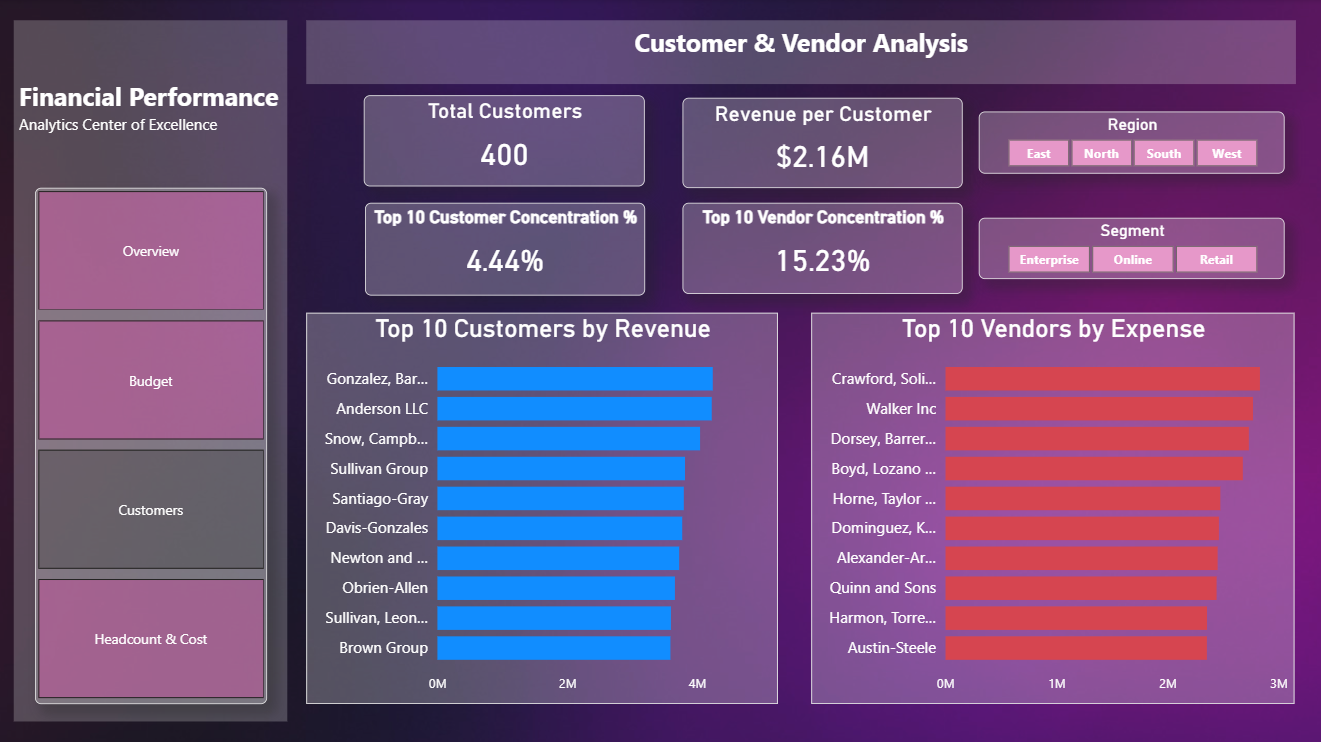

What the dashboard file says about the page in this screenshot:
{"tool":"powerbi","page":{"name":"Customers","canvas":[1280,720],"ordinal":2},"visuals":[{"type":"textbox","box":[295.6,20.5,955.5,61.5],"z":0},{"type":"textbox","box":[13.3,20.5,264.2,676.8],"z":1000},{"type":"pageNavigator","box":[33.8,182.2,224.4,498.3],"z":2000},{"type":"card","title":"Total Customers","fields":{"Values":["Customers.Total Customers"]},"box":[351.1,92.9,271.4,88.1],"z":3000},{"type":"card","title":"Revenue per Customer","fields":{"Values":["Customers.Revenue per Customer"]},"box":[658.7,95.3,270.2,86.9],"z":4000},{"type":"card","title":"Top 10 Customer Concentration %","fields":{"Values":["Customers.Top 10 Customer Concentration %"]},"box":[352.3,196.6,270.2,89.3],"z":5000},{"type":"card","title":"Top 10 Vendor Concentration %","fields":{"Values":["Customers.Top 10 Vendor Concentration %"]},"box":[658.7,196.6,270.2,88.1],"z":6000},{"type":"clusteredBarChart","title":"Top 10 Customers by Revenue","fields":{"Category":["Customers.customer_name"],"Y":["Financial_Transactions.Total Revenue"]},"box":[295,303.3,455.6,377.4],"z":7000},{"type":"clusteredBarChart","title":"Top 10 Vendors by Expense","fields":{"Category":["Vendors.vendor_name"],"Y":["Financial_Transactions.Total Expense"]},"box":[783.5,303.3,466.6,377.4],"z":8000},{"type":"slicer","title":"Region","fields":{"Values":["Customers.region"]},"box":[944.6,108.6,295.6,60.3],"z":9000},{"type":"slicer","title":"Segment","fields":{"Values":["Customers.segment"]},"box":[944.6,211.1,295.6,59.1],"z":10000}]}

Visuals, with their boxes in screenshot pixels (x1, y1, x2, y2), scaled from the page's 1280x720 canvas onto the 1321x742 screenshot:
textbox: (305, 21, 1291, 85)
textbox: (14, 21, 286, 719)
pageNavigator: (35, 188, 266, 701)
"Total Customers" card: (362, 96, 642, 187)
"Revenue per Customer" card: (680, 98, 959, 188)
"Top 10 Customer Concentration %" card: (364, 203, 642, 295)
"Top 10 Vendor Concentration %" card: (680, 203, 959, 293)
"Top 10 Customers by Revenue" clusteredBarChart: (304, 313, 775, 701)
"Top 10 Vendors by Expense" clusteredBarChart: (809, 313, 1290, 701)
"Region" slicer: (975, 112, 1280, 174)
"Segment" slicer: (975, 218, 1280, 278)
